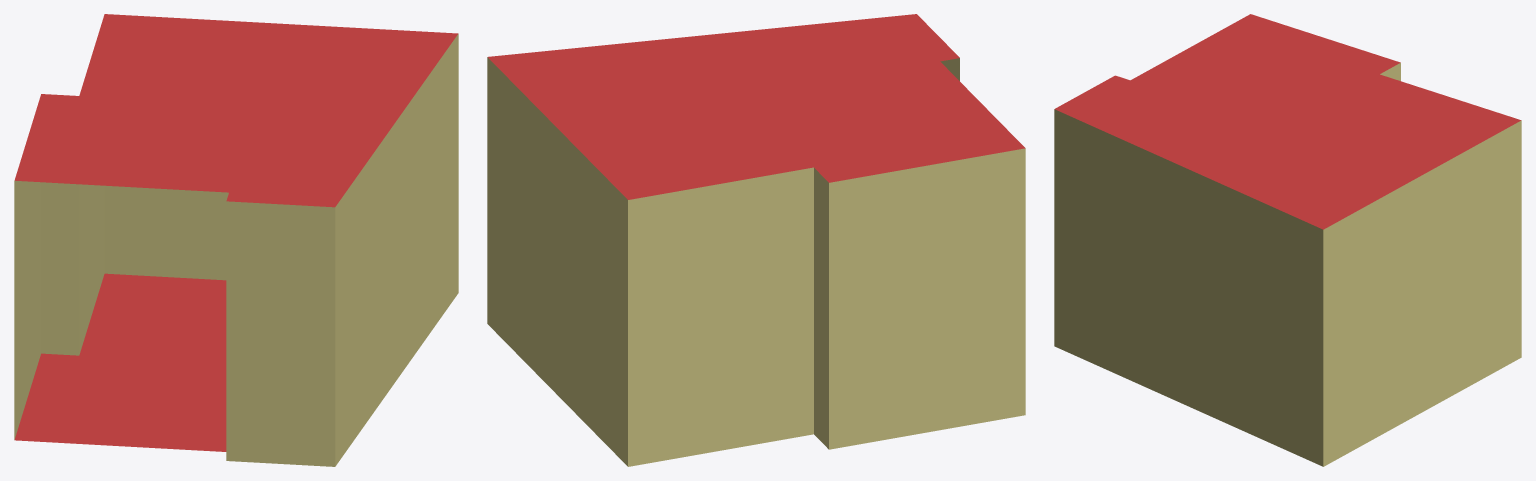
3 views of the same model, side by side, from view 1: azimuth 30°, elevation 25°; view 2: azimuth 150°, elevation 25°; view 3: azimuth 270°, elevation 25° (orthographic). The views are drawn at different scales.
Bounding box in the file's own units: 11.29 × 10.33 × 5.79.
